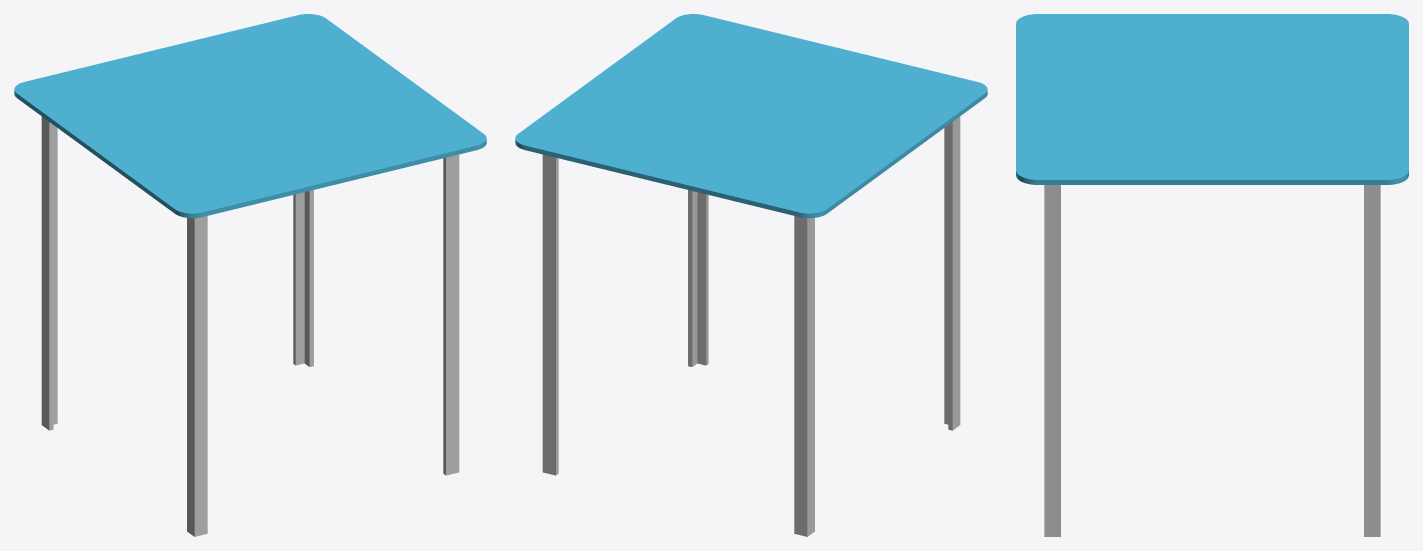
Rendered from Table70New.dae.
The picture shows the model from 3 angles, left to right: view 1: azimuth 30°, elevation 25°; view 2: azimuth 150°, elevation 25°; view 3: azimuth 270°, elevation 25°; orthographic projection. The views are drawn at different scales.
Parts seen in each view (by area): view 1: node0; view 2: node0; view 3: node0.
Boxes of the visible parts, x1,y1,x2,y2 form: node0: [14, 14, 486, 536]; node0: [515, 14, 987, 536]; node0: [1016, 14, 1408, 536].
Size of the model in its own units: 700 by 700 by 725.
